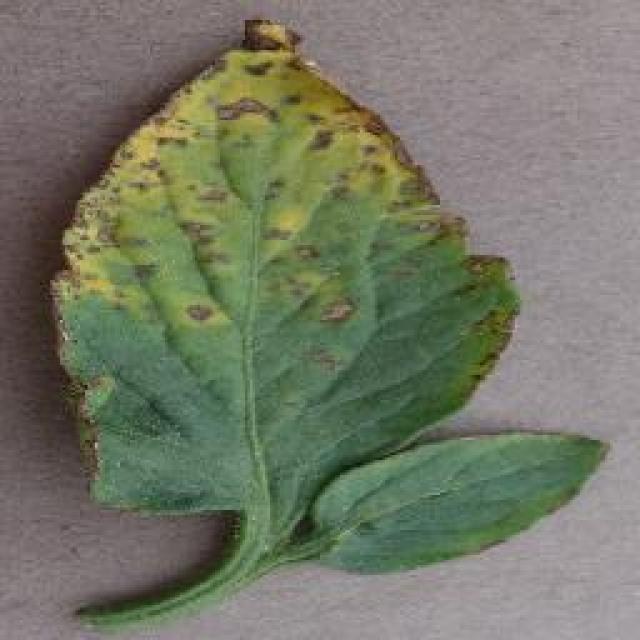bacterial spot: (48, 22, 610, 631)
